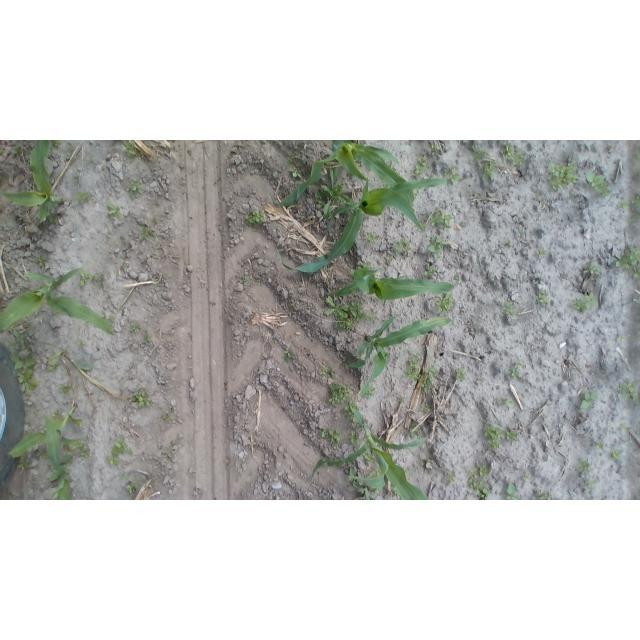Maize: (273, 176, 452, 272), (311, 402, 427, 500), (277, 140, 415, 206), (350, 313, 450, 395), (1, 268, 116, 336), (3, 141, 66, 224), (323, 267, 456, 305), (9, 403, 84, 461), (42, 415, 74, 500)
Weeds: (326, 295, 366, 327), (549, 163, 577, 189), (615, 246, 640, 272), (586, 172, 612, 197), (577, 457, 595, 489), (106, 443, 132, 465), (19, 369, 38, 397), (618, 379, 638, 405), (9, 352, 37, 370), (485, 425, 503, 449), (329, 383, 349, 404), (424, 366, 438, 395), (575, 293, 597, 311), (349, 468, 364, 493), (505, 146, 523, 165), (436, 293, 454, 312), (321, 428, 341, 444), (393, 238, 411, 255), (247, 210, 265, 227), (134, 391, 151, 409), (581, 391, 598, 409), (413, 156, 427, 177), (409, 356, 420, 381), (434, 212, 451, 228), (126, 177, 142, 194), (106, 201, 122, 218), (123, 141, 138, 159), (429, 237, 444, 254), (621, 194, 639, 208), (9, 326, 30, 338), (345, 401, 359, 419), (506, 482, 520, 500), (81, 270, 96, 286), (511, 361, 523, 379), (535, 489, 554, 500), (319, 365, 336, 377), (589, 261, 603, 275), (72, 442, 88, 454), (140, 228, 156, 240), (468, 472, 480, 488), (483, 161, 494, 177), (507, 430, 520, 443), (506, 301, 518, 315), (456, 367, 467, 382), (350, 430, 360, 446), (537, 292, 550, 304), (425, 265, 438, 277), (476, 463, 489, 475), (12, 145, 23, 158), (285, 348, 294, 363), (21, 457, 33, 468), (479, 487, 490, 499), (448, 472, 458, 485), (448, 171, 459, 182), (49, 361, 60, 372), (162, 412, 173, 423), (125, 483, 137, 493), (368, 468, 381, 477), (77, 192, 90, 201), (368, 233, 379, 243), (60, 384, 70, 394), (362, 450, 372, 460), (51, 140, 62, 149), (38, 256, 47, 267), (503, 397, 513, 406), (40, 448, 48, 458), (422, 403, 430, 413), (431, 144, 439, 153), (612, 450, 620, 458), (597, 440, 605, 448), (522, 471, 530, 479), (133, 325, 140, 332), (538, 250, 546, 256), (145, 334, 151, 342), (506, 239, 512, 246)
